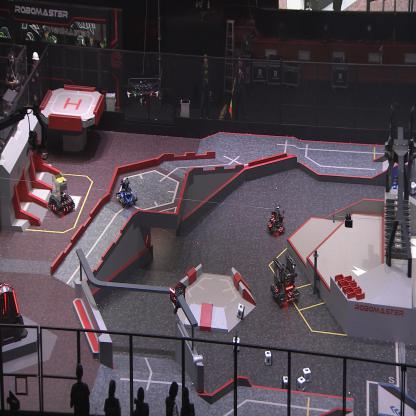car: (269, 254, 300, 306), (47, 170, 75, 218), (115, 177, 138, 209), (266, 206, 285, 238), (389, 172, 408, 198)
